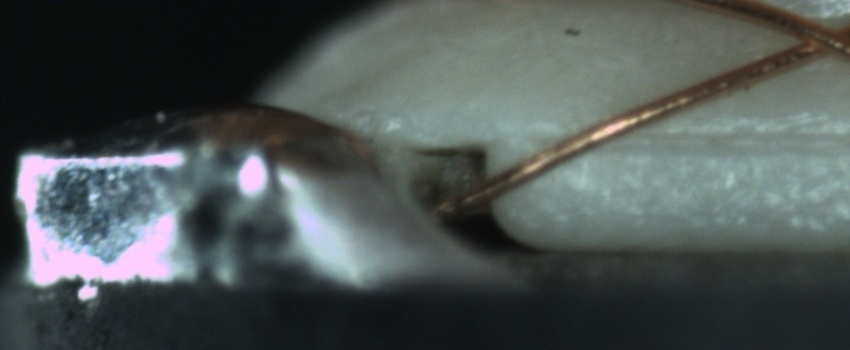CL: (774, 9, 849, 65)
DL: (541, 105, 849, 172)
